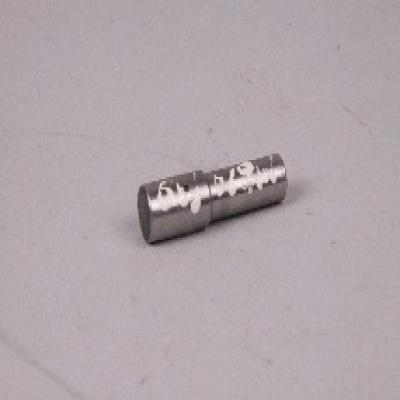technique: (136, 154, 288, 246)
